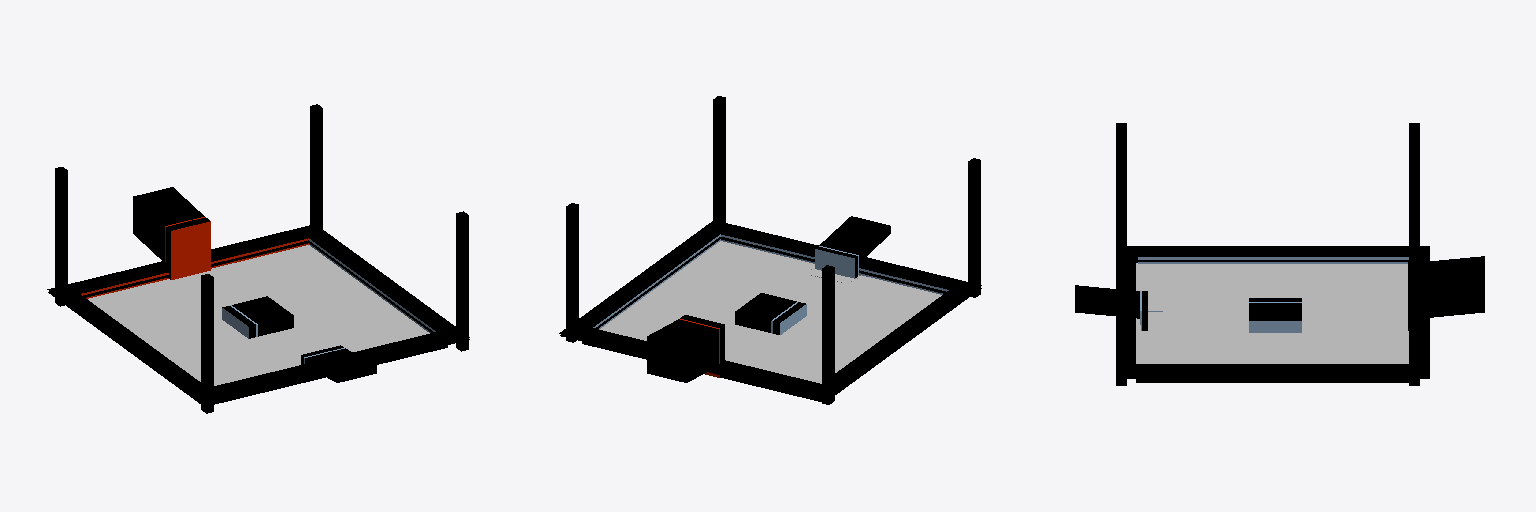
File: floor2.obj
The picture shows the model from 3 angles: view 1: azimuth 30°, elevation 25°; view 2: azimuth 150°, elevation 25°; view 3: azimuth 270°, elevation 25°; orthographic projection.
Visible parts, largest first — view 1: Mesh (2); view 2: Mesh (2); view 3: Mesh (2).
Part boxes in pixels (bbox=[...]): Mesh (2): bbox=[47, 104, 469, 413]; Mesh (2): bbox=[559, 96, 981, 404]; Mesh (2): bbox=[1075, 123, 1484, 385].
Size of the model in its own units: 11.2 by 5.46 by 14.79.